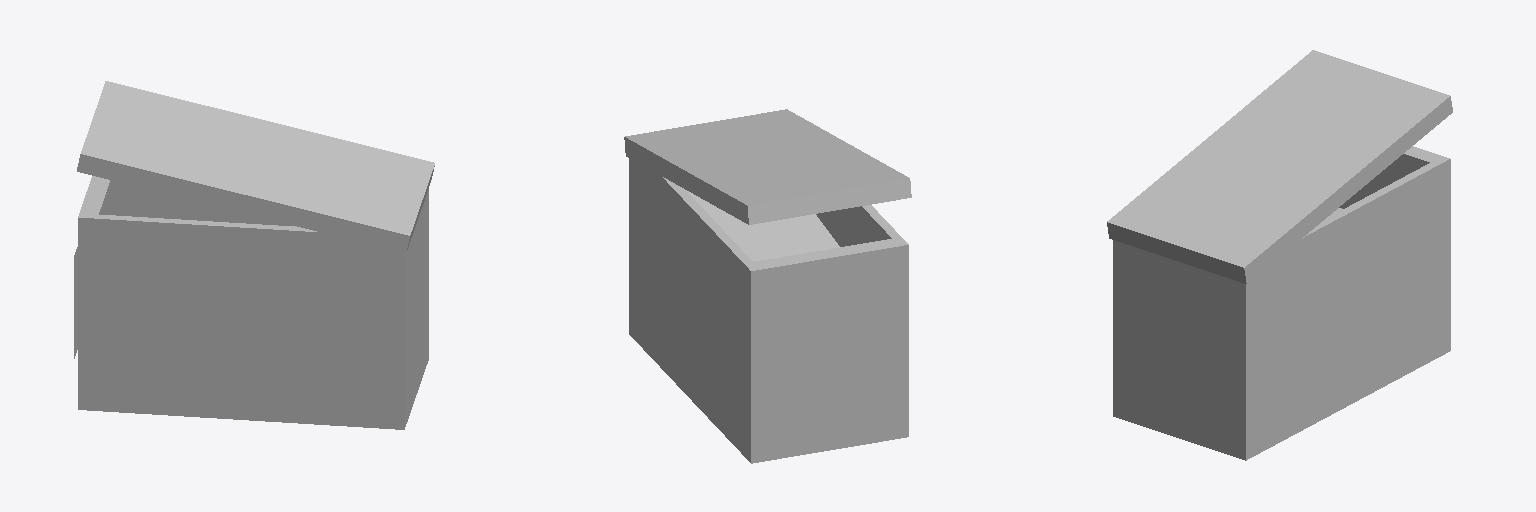
The model's file is ammo_crate.obj.
3 views of the same model, side by side, from view 1: azimuth 30°, elevation 25°; view 2: azimuth 150°, elevation 25°; view 3: azimuth 270°, elevation 25° (orthographic).
Visible parts, largest first — view 1: Ammo_Box, Lid; view 2: Ammo_Box, Lid, Ammo; view 3: Ammo_Box, Lid.
Boxes of the visible parts, box(x1,y1,x2,y2) form: Ammo_Box: box(74, 176, 428, 429); Lid: box(77, 81, 434, 252); Ammo_Box: box(629, 158, 908, 463); Lid: box(624, 109, 911, 224); Ammo: box(686, 190, 839, 261); Ammo_Box: box(1113, 146, 1450, 460); Lid: box(1107, 50, 1452, 283).
Bounding box in the file's own units: 0.246 × 0.1871 × 0.2283.